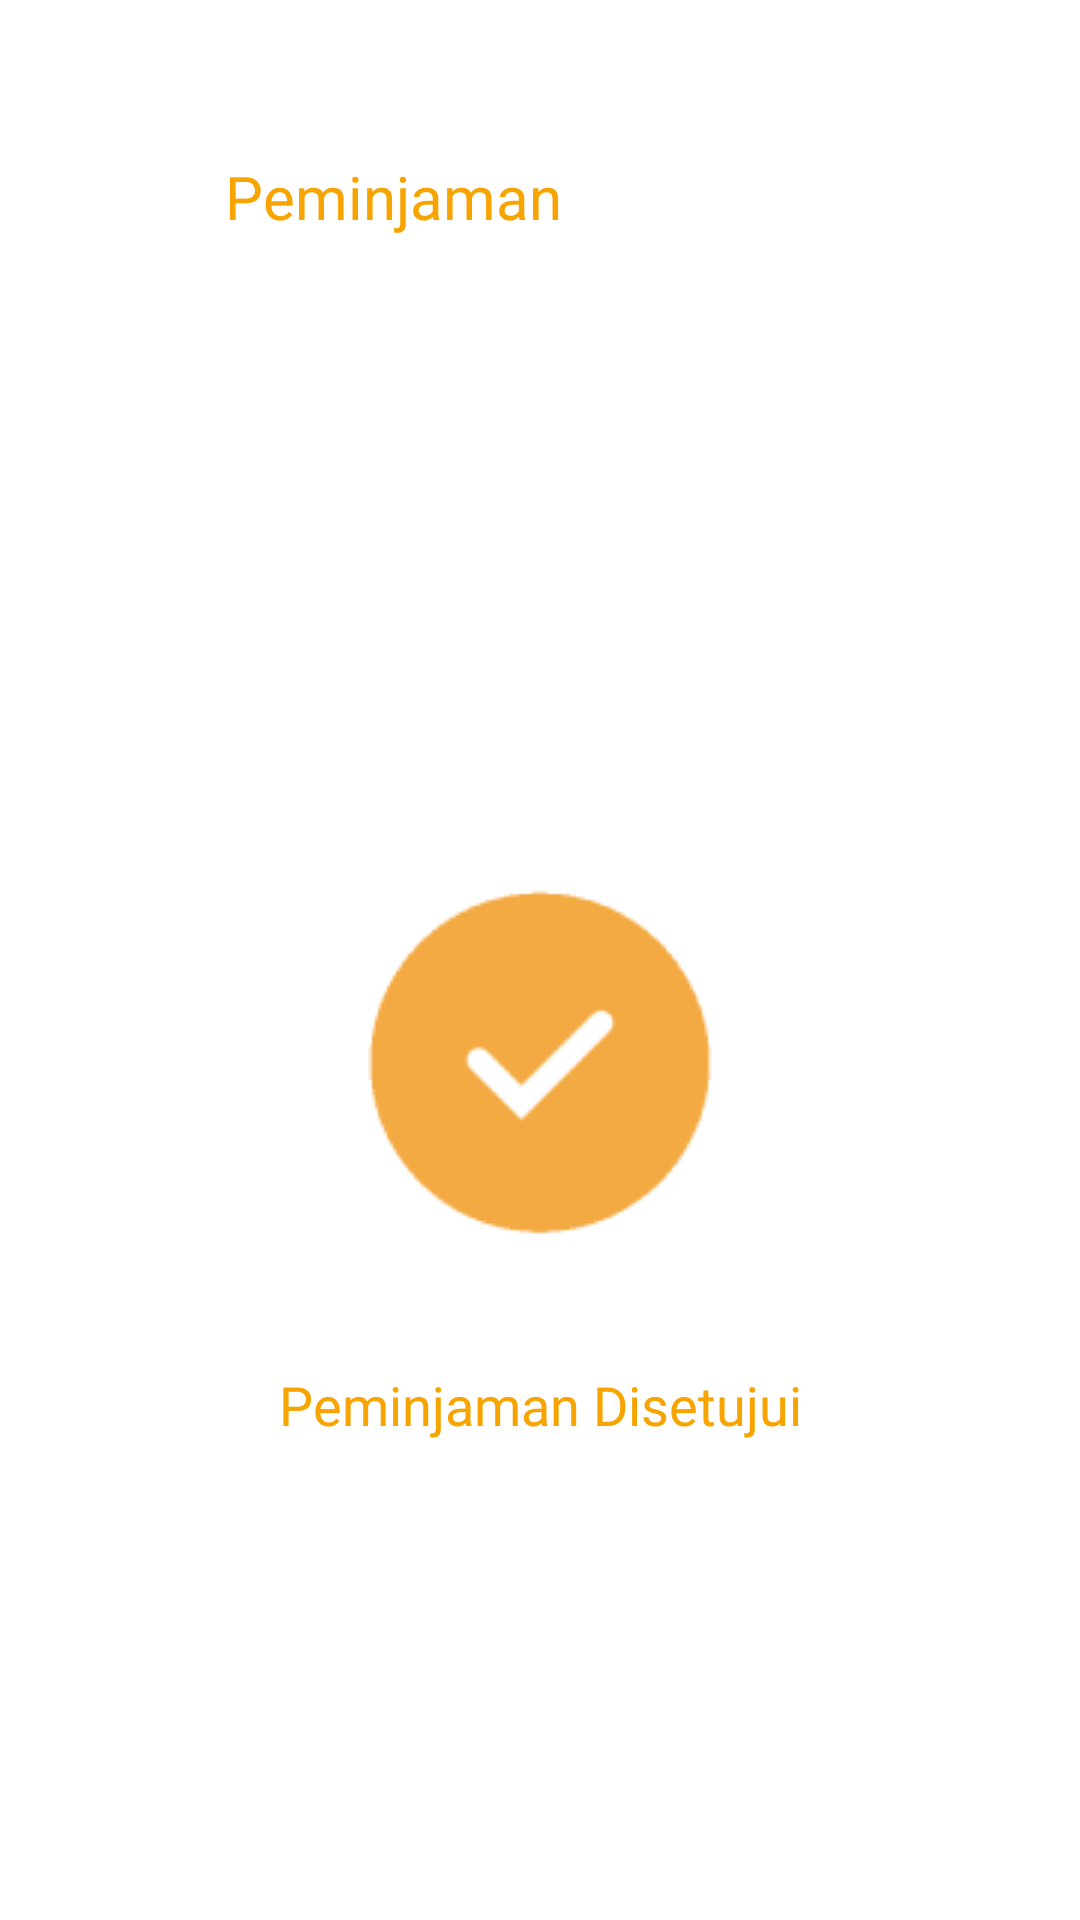

Icons on this 1080x1920 Android screen, each with its box as BBox(x1, y1, x2, y2):
tick: BBox(369, 891, 711, 1234)
